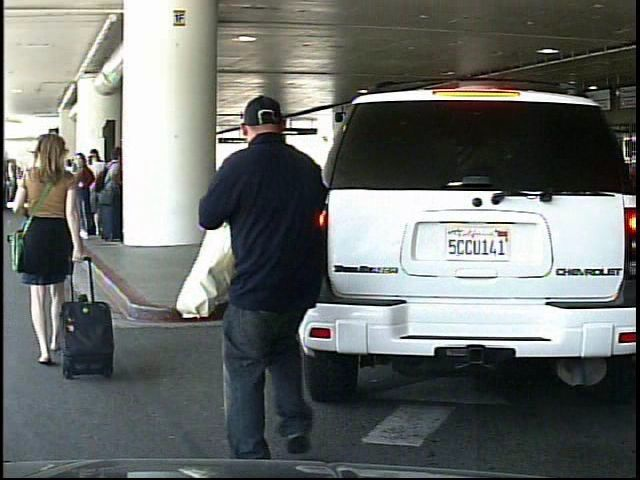person: (199, 90, 361, 464), (5, 126, 95, 389)
